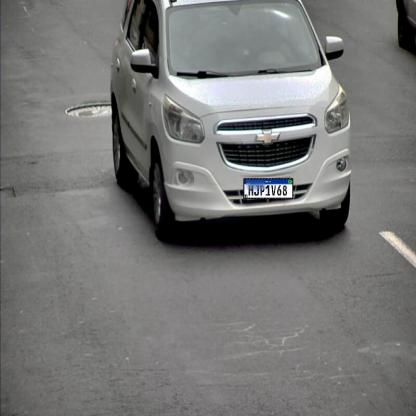PlacaM: (244, 178, 294, 199)
